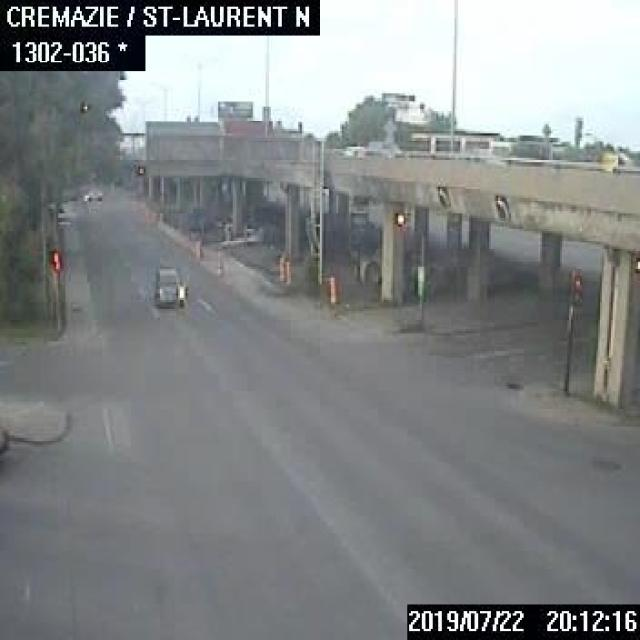construction: (327, 278, 336, 302), (276, 255, 282, 277), (283, 260, 289, 282)
vehicle: (153, 264, 182, 304), (364, 139, 401, 157), (84, 187, 100, 200)
